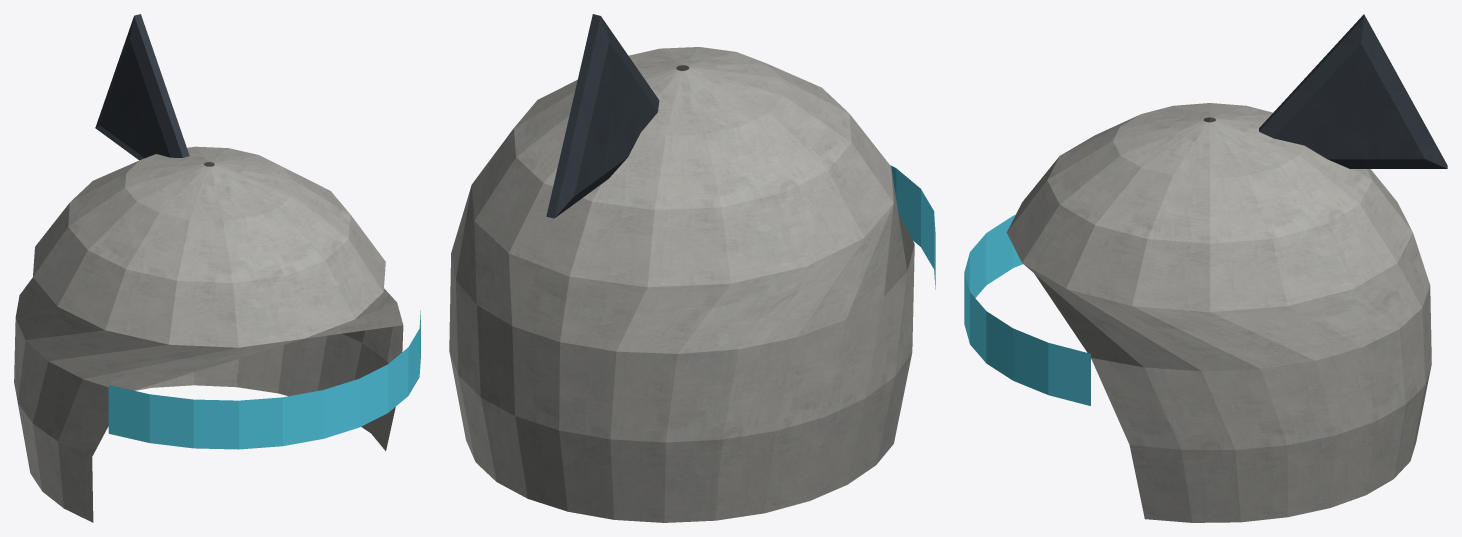
The model's file is eq_future_2_head.glb.
3 renders of one model, left to right at view 1: azimuth 30°, elevation 25°; view 2: azimuth 150°, elevation 25°; view 3: azimuth 270°, elevation 25°, orthographic. The views are drawn at different scales.
Visible parts, largest first — view 1: eq_future_2_head; view 2: eq_future_2_head; view 3: eq_future_2_head.
Boxes of the visible parts, <box> form: eq_future_2_head: <box>14,14,420,522</box>; eq_future_2_head: <box>449,14,935,522</box>; eq_future_2_head: <box>964,14,1447,522</box>.
Bounding box in the file's own units: 0.2934 × 0.3384 × 0.3472.
Materials: 3 (3 with a texture image).
